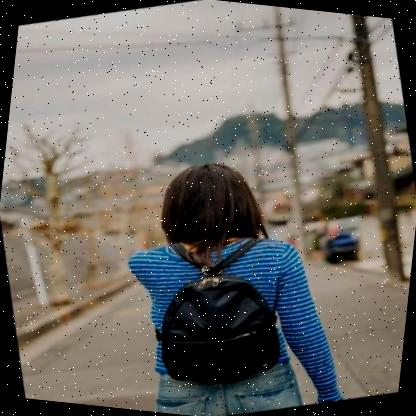bag: (157, 235, 294, 398)
person: (105, 149, 372, 416)
